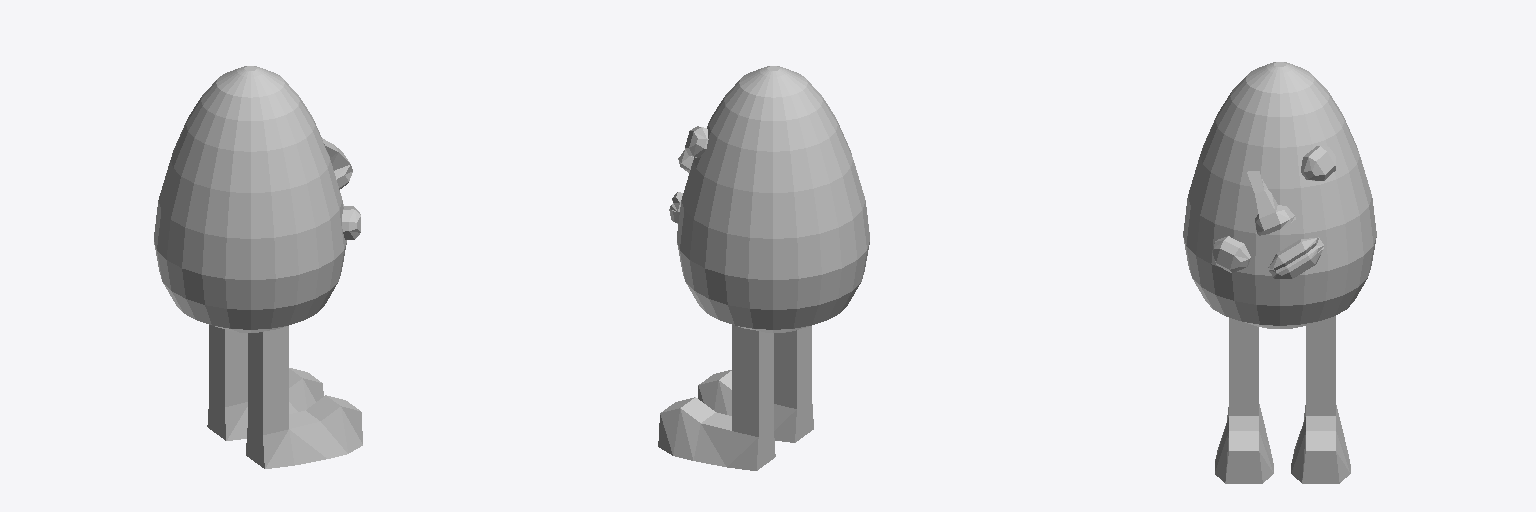
Rendered from Eggman.obj.
3 views of the same model, side by side, from view 1: azimuth 30°, elevation 25°; view 2: azimuth 150°, elevation 25°; view 3: azimuth 270°, elevation 25° (orthographic).
Visible parts, largest first — view 1: loftedSurface1, pCube6, pCube5, pCube1, pCube2; view 2: loftedSurface1, pCube5, pCube6, pCube3; view 3: loftedSurface1, pCube5, pCube6, pCube4, pCube1, pCube2, pCube3.
Boxes of the visible parts, <box> form: loftedSurface1: <box>154,66,346,332</box>; pCube6: <box>246,326,362,468</box>; pCube5: <box>207,325,323,440</box>; pCube1: <box>322,138,352,189</box>; pCube2: <box>342,206,360,239</box>; loftedSurface1: <box>677,66,869,332</box>; pCube5: <box>658,325,775,470</box>; pCube6: <box>698,326,813,442</box>; pCube3: <box>685,126,708,157</box>; loftedSurface1: <box>1183,62,1376,328</box>; pCube5: <box>1291,316,1350,483</box>; pCube6: <box>1215,318,1273,483</box>; pCube4: <box>1268,237,1323,278</box>; pCube1: <box>1247,171,1295,235</box>; pCube2: <box>1212,236,1250,272</box>; pCube3: <box>1301,146,1335,180</box>.
Size of the model in its own units: 2.96 by 5.97 by 2.78.